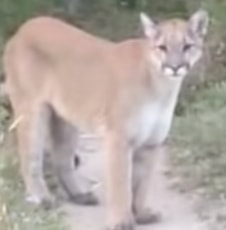Mountain Lion: (4, 7, 220, 224)
